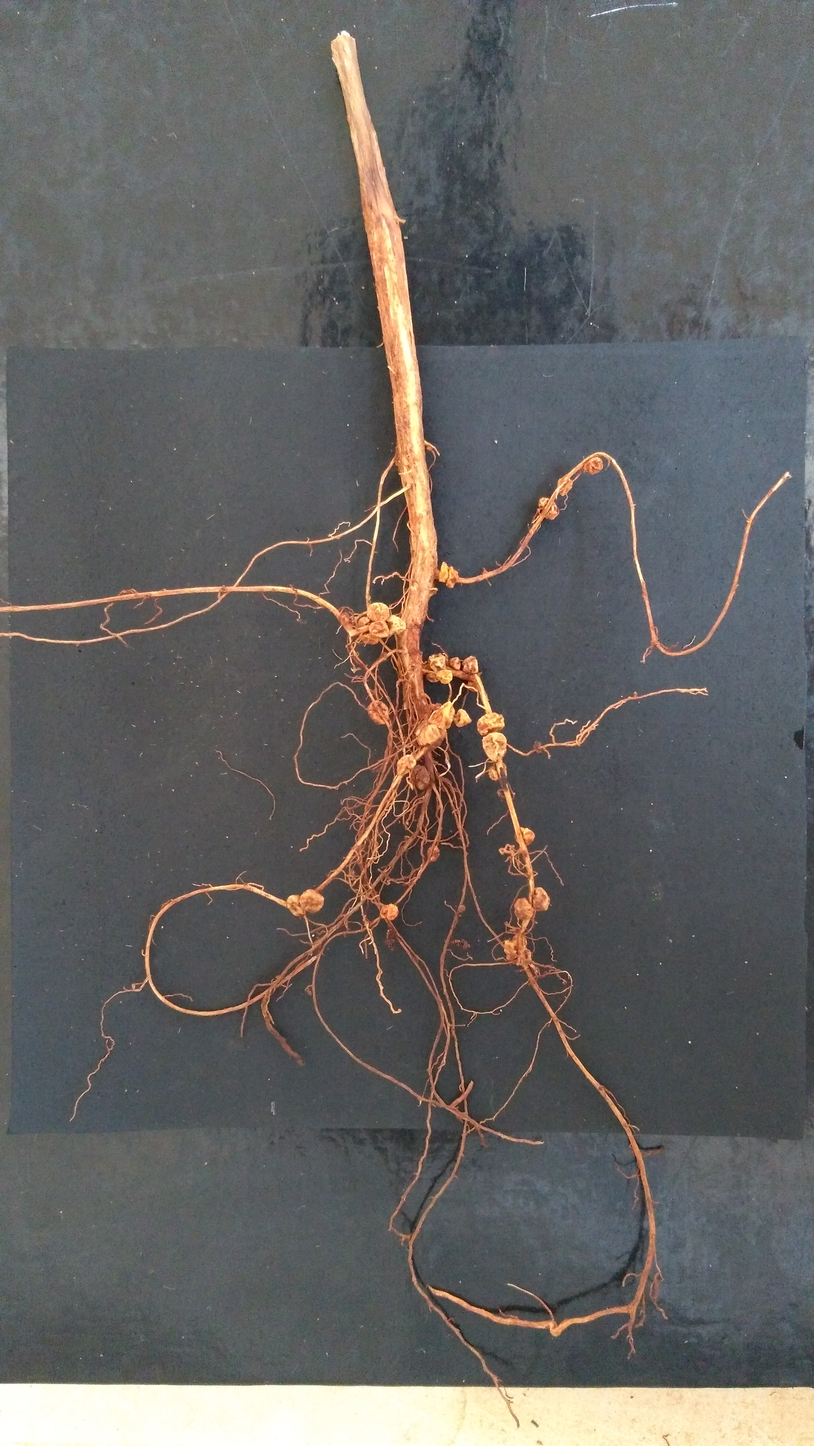nodule: (414, 719, 446, 750), (505, 934, 532, 967), (429, 701, 455, 729), (483, 732, 507, 761), (476, 713, 505, 735), (358, 617, 381, 644), (300, 889, 324, 913), (367, 700, 390, 724), (409, 764, 430, 790), (538, 497, 559, 521), (532, 886, 551, 911), (286, 894, 305, 917), (367, 602, 390, 621), (396, 754, 416, 775), (514, 827, 535, 847), (386, 615, 407, 635), (514, 898, 533, 920), (583, 456, 602, 475), (428, 653, 447, 672), (488, 762, 507, 780), (379, 903, 399, 920), (369, 620, 389, 637), (557, 475, 573, 496), (461, 656, 479, 674), (455, 708, 472, 727), (339, 612, 357, 629), (445, 566, 458, 588), (436, 670, 453, 684), (450, 939, 471, 950), (465, 679, 480, 693), (427, 846, 440, 862), (385, 928, 394, 950), (425, 671, 441, 683), (439, 562, 448, 583), (449, 657, 461, 670), (530, 964, 540, 975), (533, 741, 542, 753), (458, 905, 465, 913), (380, 652, 387, 660), (426, 445, 432, 451), (306, 990, 312, 995), (311, 934, 315, 937), (512, 792, 516, 795), (405, 822, 409, 825)
